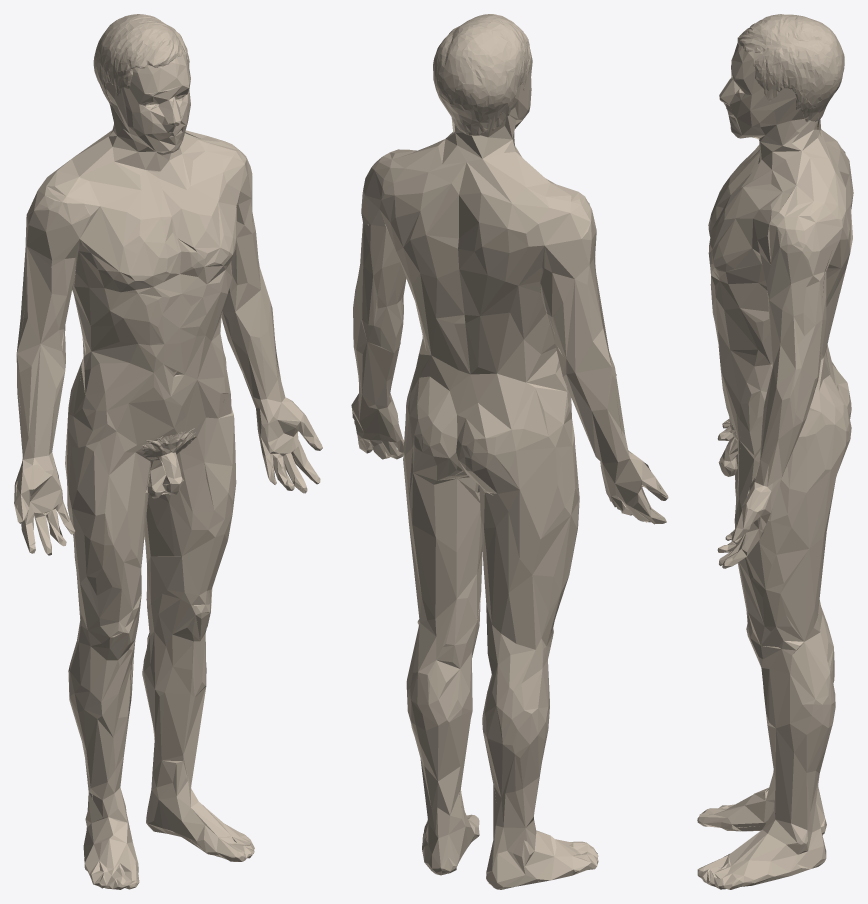
Rendered from integumentary-00.glb.
The picture shows the model from 3 angles, left to right: view 1: azimuth 30°, elevation 25°; view 2: azimuth 150°, elevation 25°; view 3: azimuth 270°, elevation 25°; orthographic projection. The views are drawn at different scales.
Visible parts, largest first — view 1: FJ2810, FJ2813, FJ2815; view 2: FJ2810, FJ2813; view 3: FJ2810, FJ2813.
Part boxes in pixels (box(x1,y1,x2,y2)): FJ2810: box(14, 47, 322, 889); FJ2813: box(93, 14, 189, 105); FJ2815: box(142, 428, 195, 460); FJ2810: box(351, 49, 668, 889); FJ2813: box(433, 14, 530, 135); FJ2810: box(697, 42, 853, 889); FJ2813: box(737, 14, 844, 121).
Size of the model in its own units: 0.6676 by 1.73 by 0.2938.
